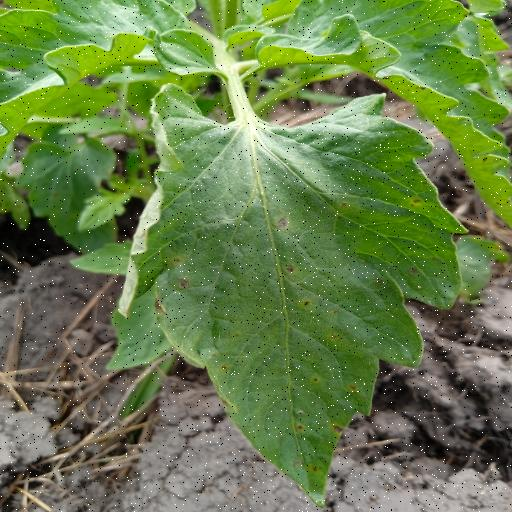Tomato_Mildiou: (114, 89, 471, 501)
